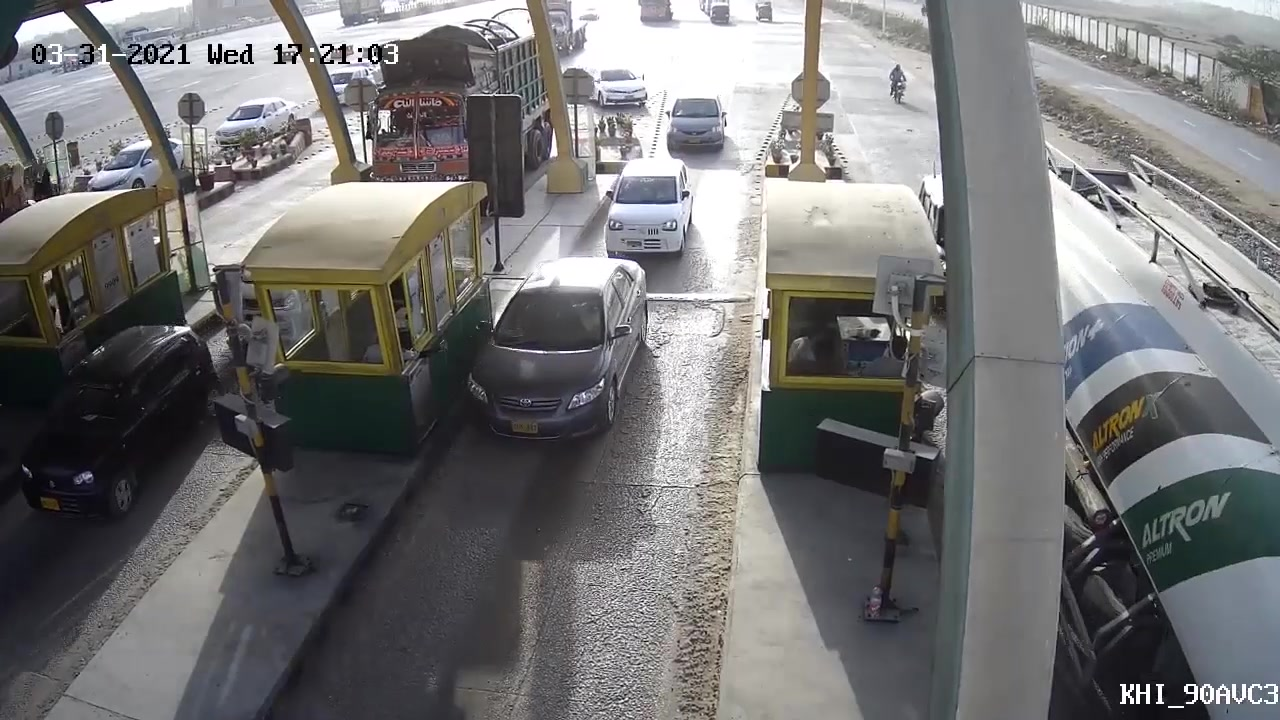F1: (460, 253, 647, 446)
